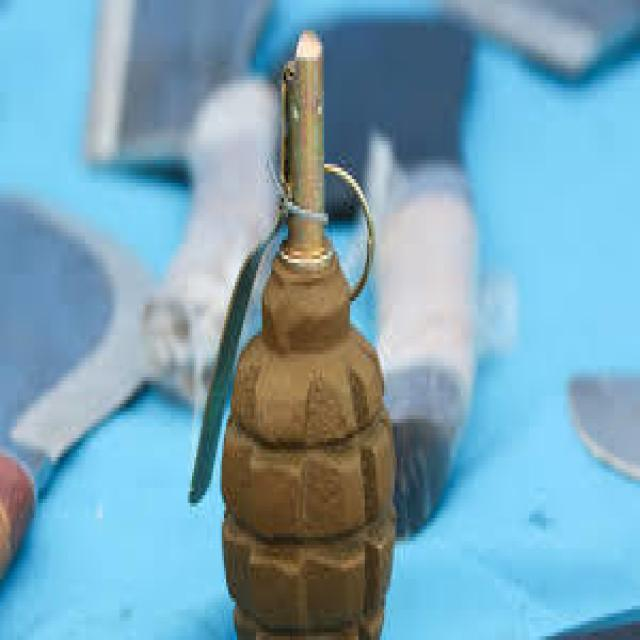grenade: (187, 34, 398, 640)
